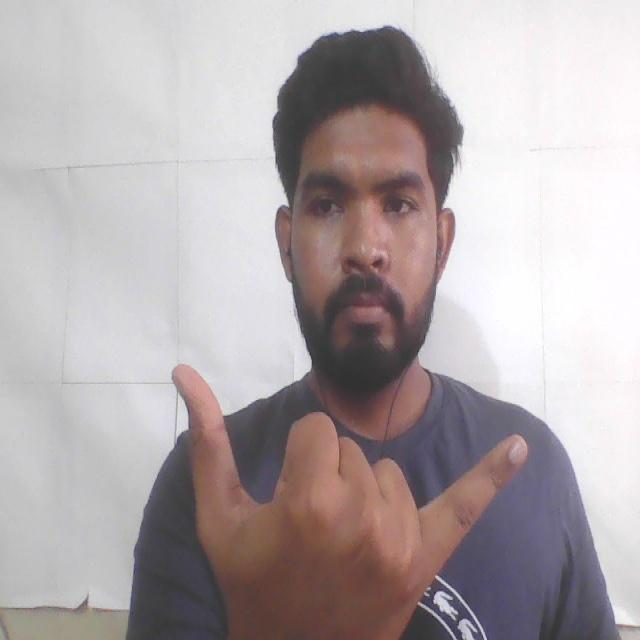Thanks: (140, 344, 540, 640)
